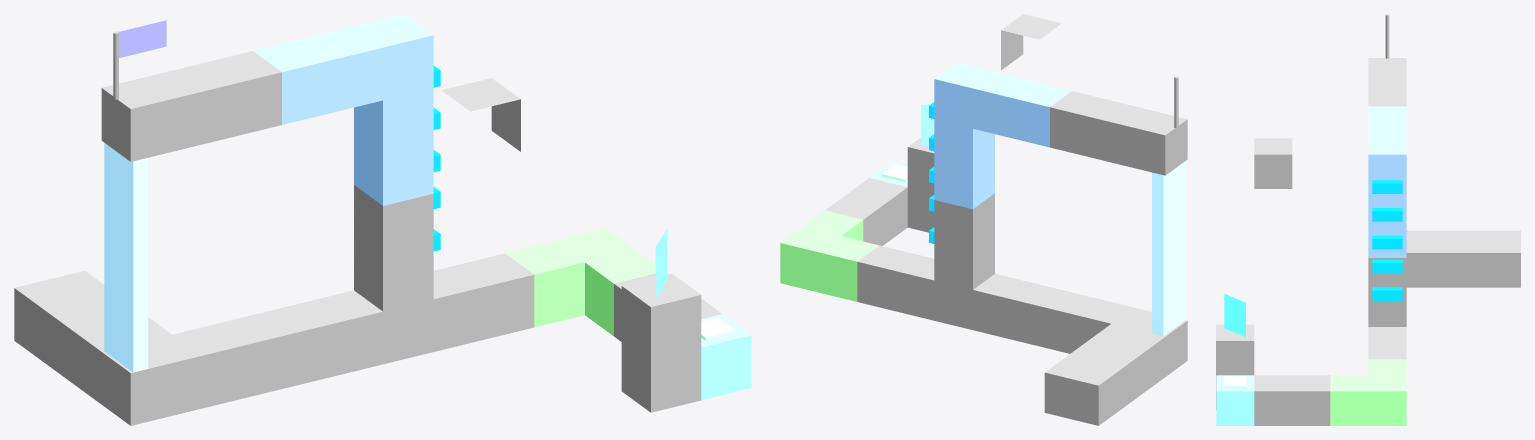
The model's file is level2-bak.gltf.
3 views of the same model, side by side, from view 1: azimuth 30°, elevation 25°; view 2: azimuth 150°, elevation 25°; view 3: azimuth 270°, elevation 25° (orthographic). The views are drawn at different scales.
Parts seen in each view (by area): view 1: Box (×3), Box_break, Box_3, Box_son, Boxbottom, Box_2, Box_Parent, Box_1, Boxdad2, Box5, Boxson2, Box3 (+3 smaller); view 2: Box_break, Box (×3), Box_2, Box_3, Box_son, Boxbottom, Boxdad2, Box_Parent, Box_1, Box4, Boxson2, Box3 (+1 smaller); view 3: Box_2, Box (×3), Box4, Box_son, Boxdad2, Boxson2, Box_3, Box5, Box2, Box_Parent, Box_1, Box3 (+6 smaller).
Part boxes in pixels (box(x1,y1,x2,y2)): Box (×3): box(354, 185, 701, 412); Box_break: box(101, 290, 382, 425); Box_3: box(101, 51, 281, 161); Box_son: box(354, 14, 433, 205); Boxbottom: box(104, 143, 148, 372); Box_2: box(14, 270, 171, 404); Box_Parent: box(253, 26, 382, 124); Box_1: box(433, 253, 534, 351); Boxdad2: box(505, 229, 634, 327); Box5: box(701, 314, 751, 400); Boxson2: box(585, 250, 655, 335); Box3: box(441, 78, 520, 111); Box_break: box(973, 273, 1187, 376); Box (×3): box(907, 104, 994, 329); Box_2: box(1044, 323, 1165, 425); Box_3: box(1050, 91, 1187, 175); Box_son: box(934, 63, 994, 209); Boxbottom: box(1152, 161, 1185, 336); Boxdad2: box(780, 226, 879, 301); Box_Parent: box(973, 72, 1071, 147); Box_1: box(857, 245, 934, 320); Box4: box(825, 178, 907, 245); Boxson2: box(803, 210, 863, 241); Box3: box(1001, 14, 1061, 39); Box_2: box(1406, 230, 1520, 287); Box (×3): box(1216, 258, 1406, 409); Box4: box(1254, 375, 1330, 425); Box_son: box(1368, 138, 1406, 257); Boxdad2: box(1368, 359, 1406, 425); Boxson2: box(1330, 375, 1368, 425); Box_3: box(1368, 58, 1406, 106); Box5: box(1216, 375, 1254, 425); Box2: box(1254, 154, 1292, 188); Box_Parent: box(1368, 106, 1406, 138); Box_1: box(1368, 327, 1406, 359); Box3: box(1254, 138, 1292, 154).
Size of the model in its own units: 10.05 by 7.25 by 8.
